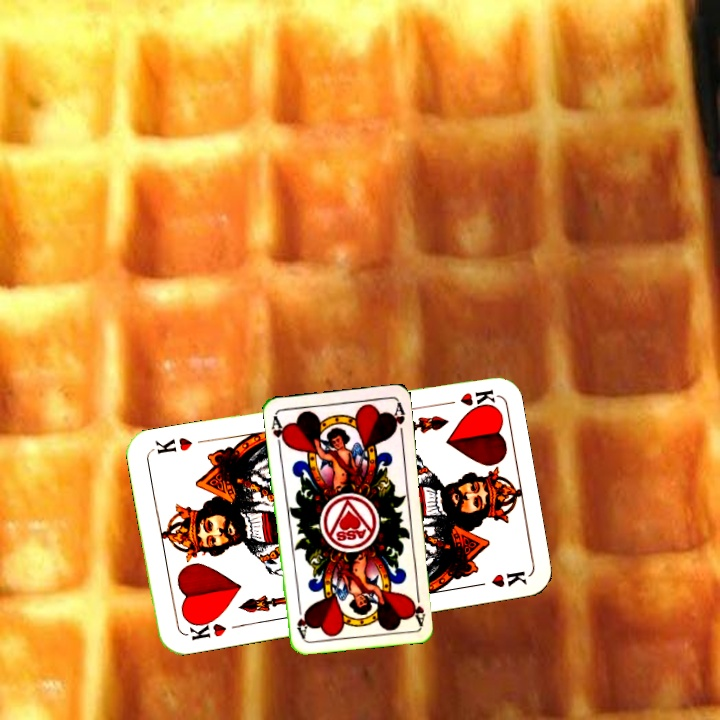HA: (268, 411, 289, 452), (407, 586, 428, 627)
HK: (436, 385, 496, 409), (184, 613, 229, 643)
